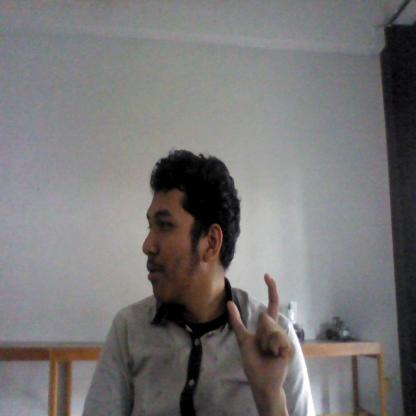U: (226, 272, 297, 390)
